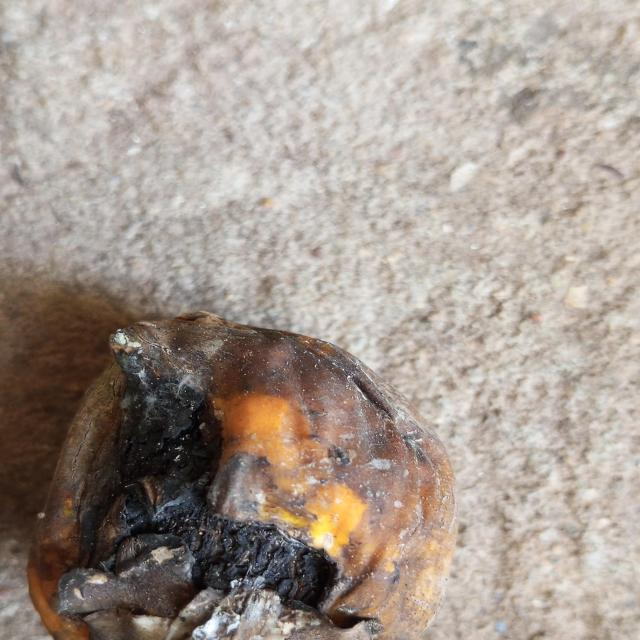damaged: (28, 312, 456, 640)
